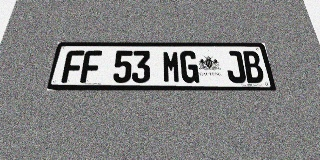3: (132, 51, 150, 83)
5: (113, 51, 133, 83)
B: (241, 51, 265, 83)
F: (61, 50, 85, 83), (80, 50, 102, 83)
G: (180, 51, 199, 83)
J: (224, 51, 247, 83)
M: (162, 51, 181, 83)
